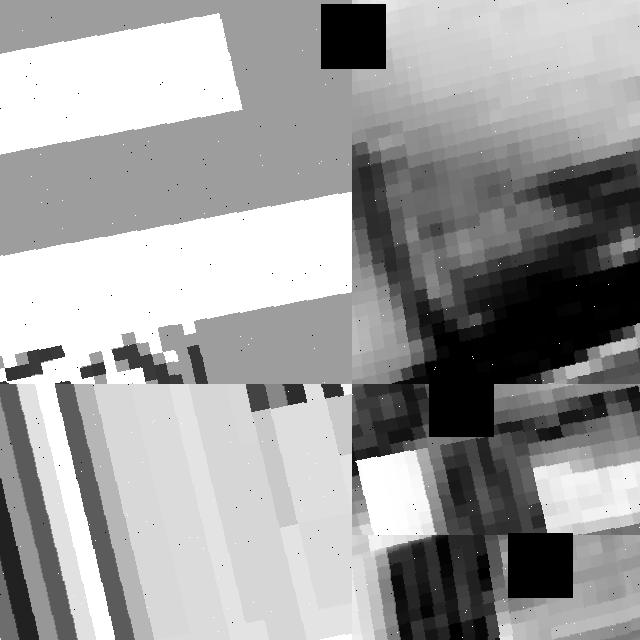arms: (0, 0, 352, 384), (352, 0, 640, 384), (0, 384, 352, 640), (352, 384, 640, 640), (352, 0, 533, 384), (352, 535, 640, 640)
